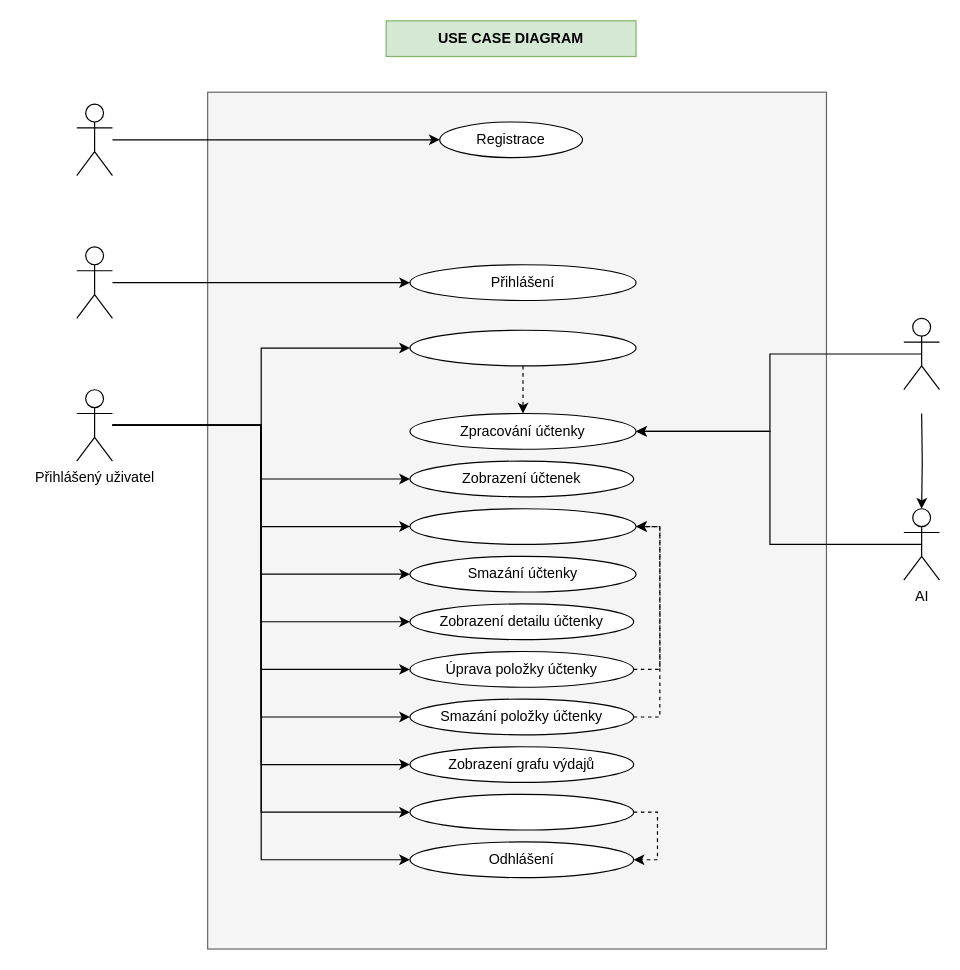
This 960x970 diagram has some shape labels left out. Each missing label, with the centre of its shape:
"Nahrání fotky účtenky" goes at [522,347].
"Neregistrovaný uživatel" goes at [94,139].
"OCR" goes at [921,353].
"Registrovaný uživatel" goes at [94,282].
"Změna jazyka aplikace" goes at [521,811].
"Úprava účtenky" goes at [522,526].
